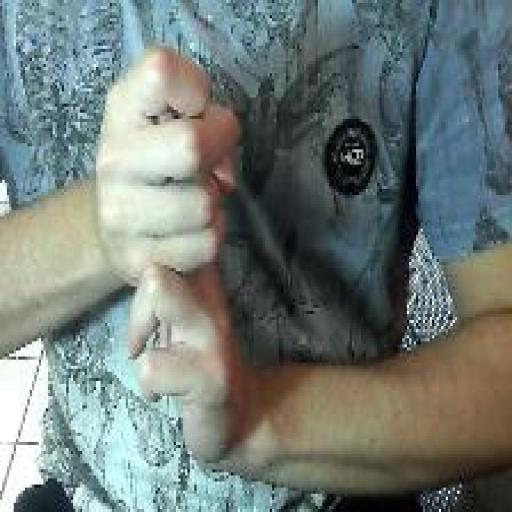Ne -rat-: (94, 38, 251, 468)
